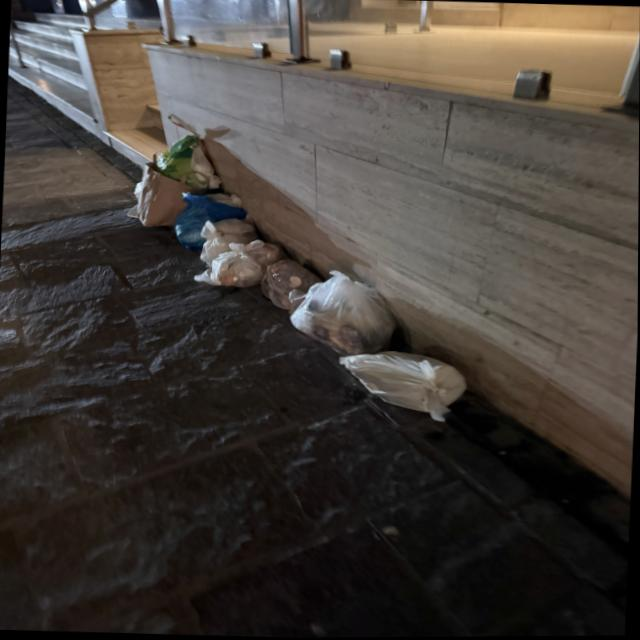Organic Waste -White Bags-: (194, 216, 466, 422)
